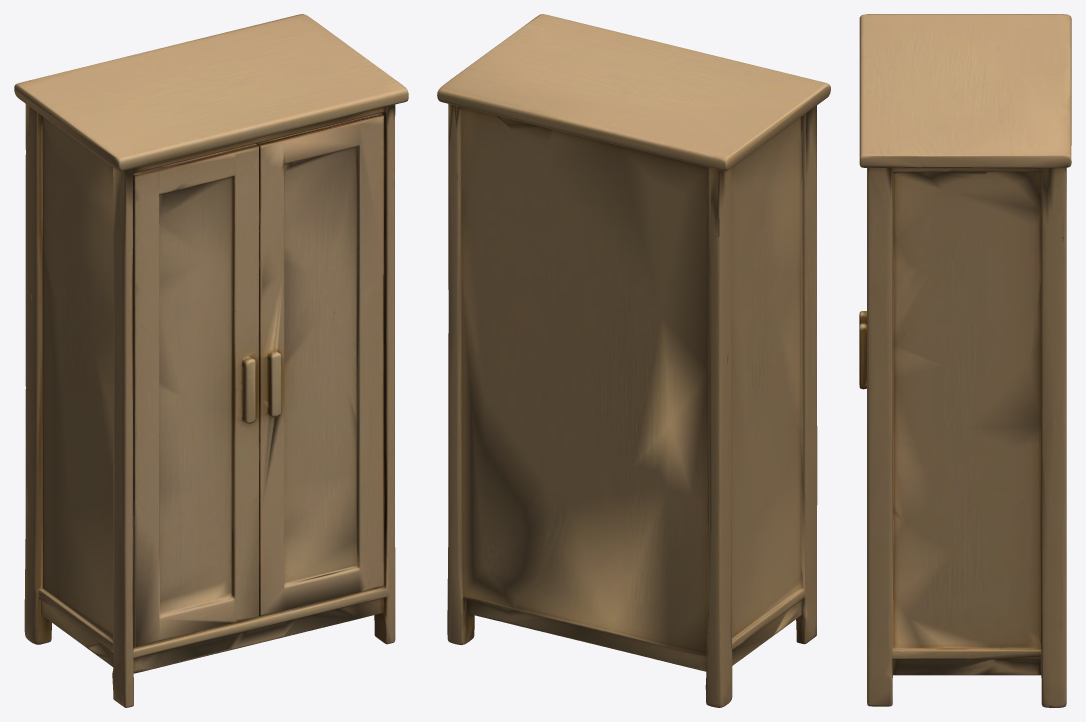
Rendered from wardrobe.glb.
3 views of the same model, side by side, from view 1: azimuth 30°, elevation 25°; view 2: azimuth 150°, elevation 25°; view 3: azimuth 270°, elevation 25° (orthographic).
Visible parts, largest first — view 1: node_0; view 2: node_0; view 3: node_0.
Part boxes in pixels (x1,y1,x2,y2): node_0: (14,14,408,707); node_0: (437,14,830,707); node_0: (859,14,1071,707).
Size of the model in its own units: 0.554 by 1.01 by 0.35.
Materials: 1 (1 with a texture image).
